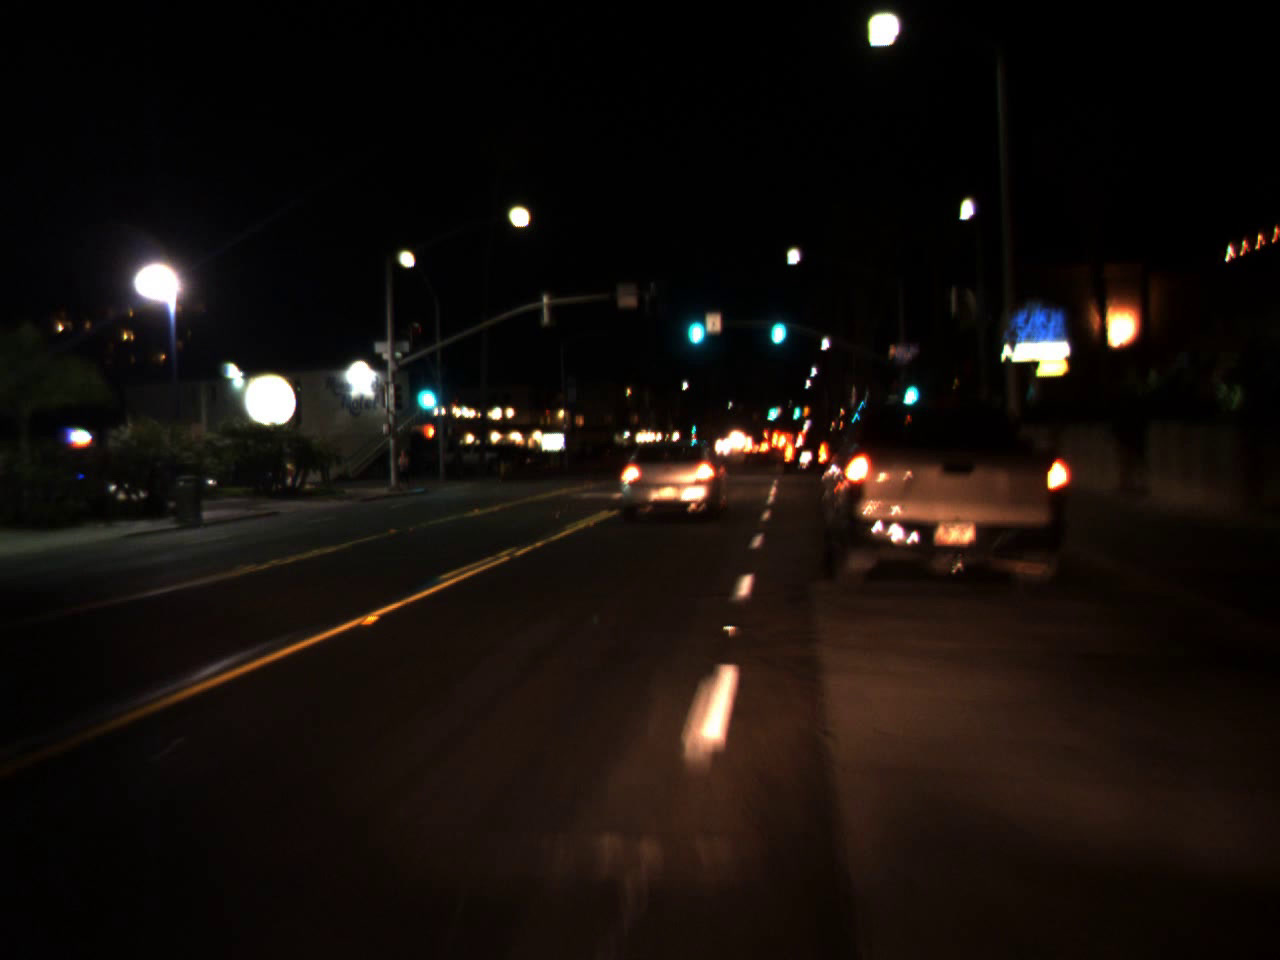go: (409, 364, 441, 418), (681, 293, 708, 353), (765, 295, 790, 352), (900, 364, 921, 412), (765, 400, 777, 424), (792, 398, 799, 422)
